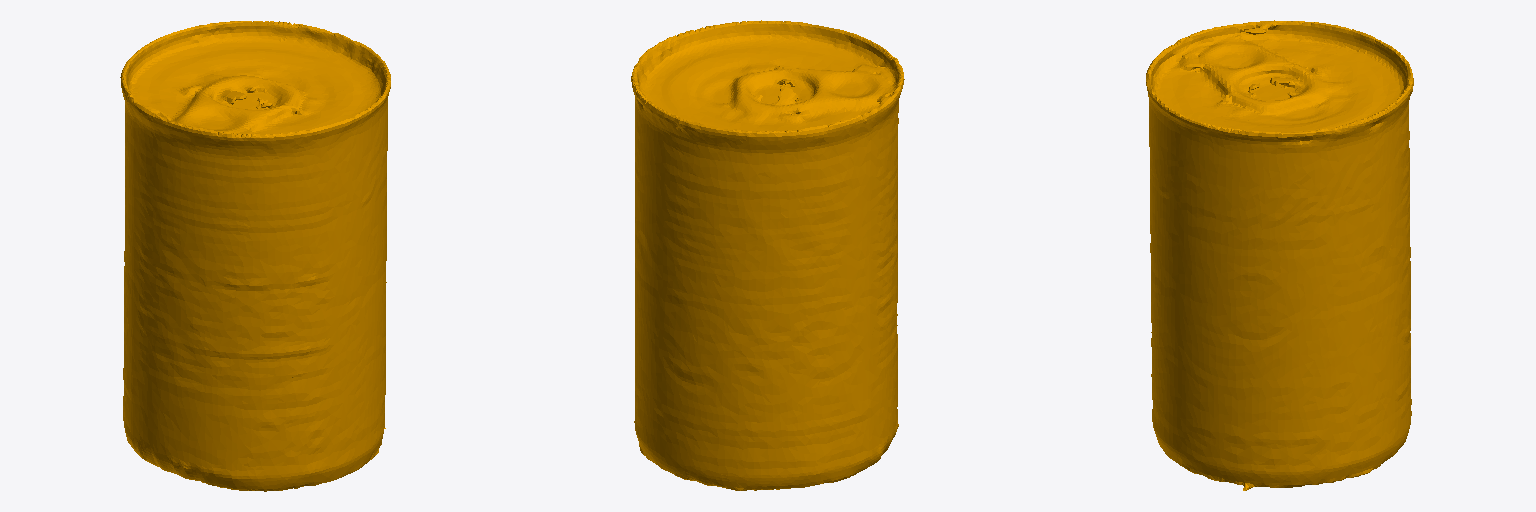
The robot description file, URDF, robot "object":
<?xml version="1.0" encoding="utf-8"?>
<robot name="object">
          <link name="object">
            <visual>
              <origin xyz="0.0 0.0 0.0" />
              <geometry>
                <mesh filename="package://scene_generation/object/kit/TomatoSoup/TomatoSoup.stl" scale="1.00 1.00 1.00" />
              </geometry>
            </visual>
            <collision>
              <origin xyz="0.0 0.0 0.0" />
              <geometry>
                <mesh filename="package://scene_generation/object/kit/TomatoSoup/TomatoSoup.stl" scale="1.00 1.00 1.00" />
              </geometry>
            </collision>
          </link>
        </robot>

--- What the picture shows (computed from the rendered views, not written in the file) ---
Views: 3 orthographic renders of the robot side by side, from view 1: azimuth 30°, elevation 25°; view 2: azimuth 150°, elevation 25°; view 3: azimuth 270°, elevation 25°.
Robot: object — 1 links, 0 joints (none); root link object; default pose: every joint at zero.
Links seen in each view (by area): view 1: object; view 2: object; view 3: object.
Boxes of the visible links, x1,y1,x2,y2 form: object: (120, 21, 390, 491); object: (631, 20, 904, 490); object: (1146, 20, 1413, 490).
Size in the robot's own frame: 0.0686 by 0.0685 by 0.1024 metres.
Meshes: 1 distinct files referenced, 1 mesh visuals loaded (1 binary STL).